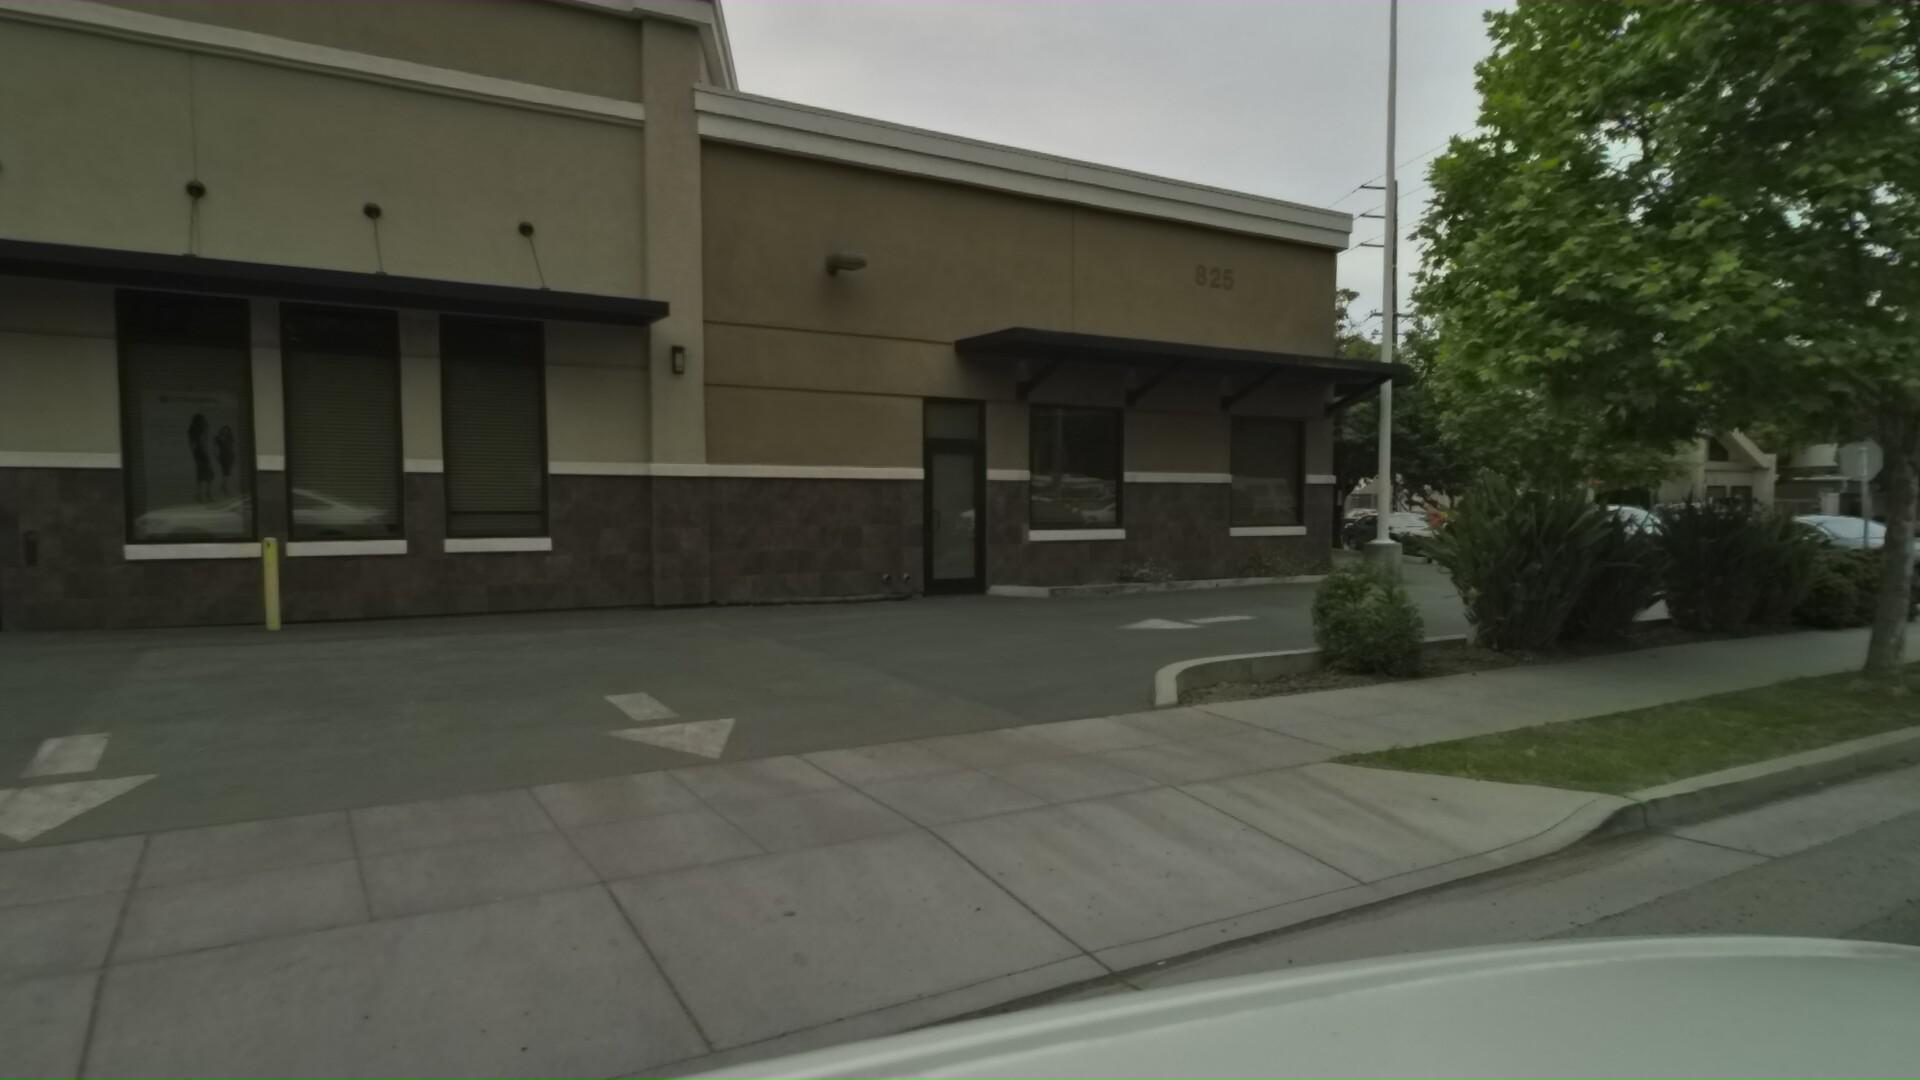car: (1714, 502, 1920, 591), (1544, 495, 1725, 564), (1443, 502, 1602, 568), (1346, 504, 1476, 556), (1379, 502, 1466, 541), (1336, 500, 1414, 535), (1849, 496, 1920, 531)
